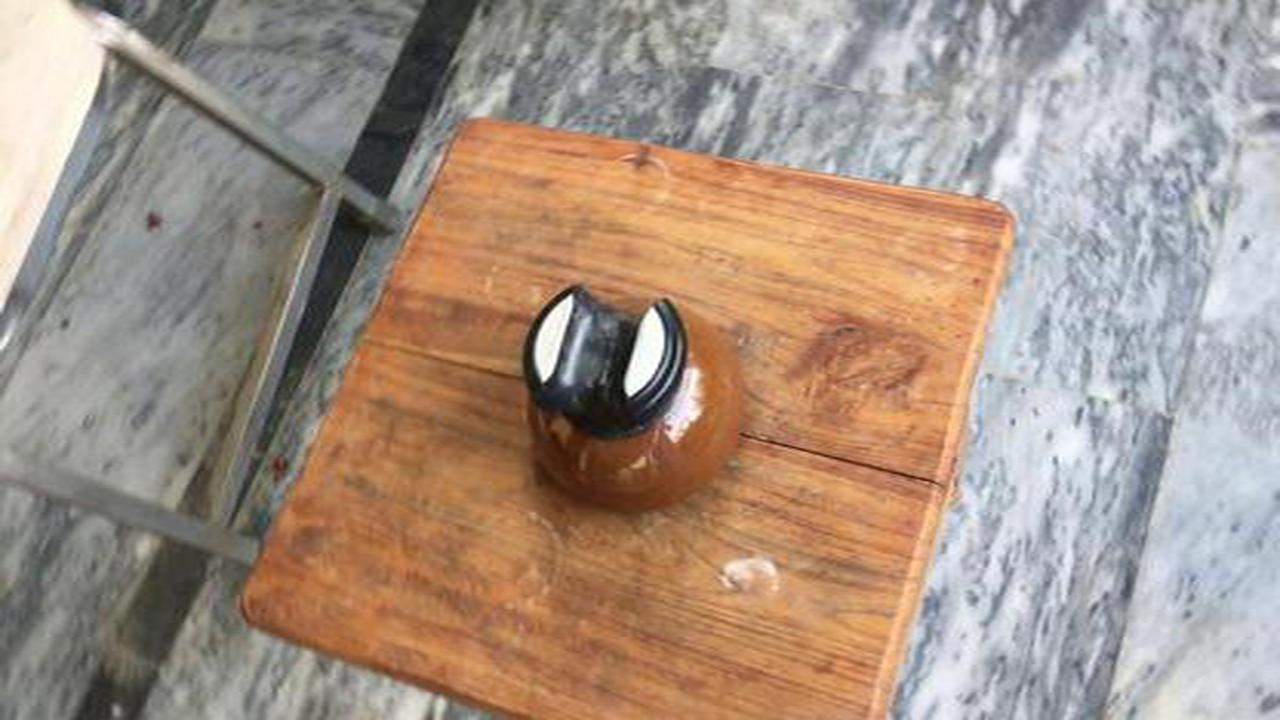insulator_pin: (493, 276, 770, 521)
